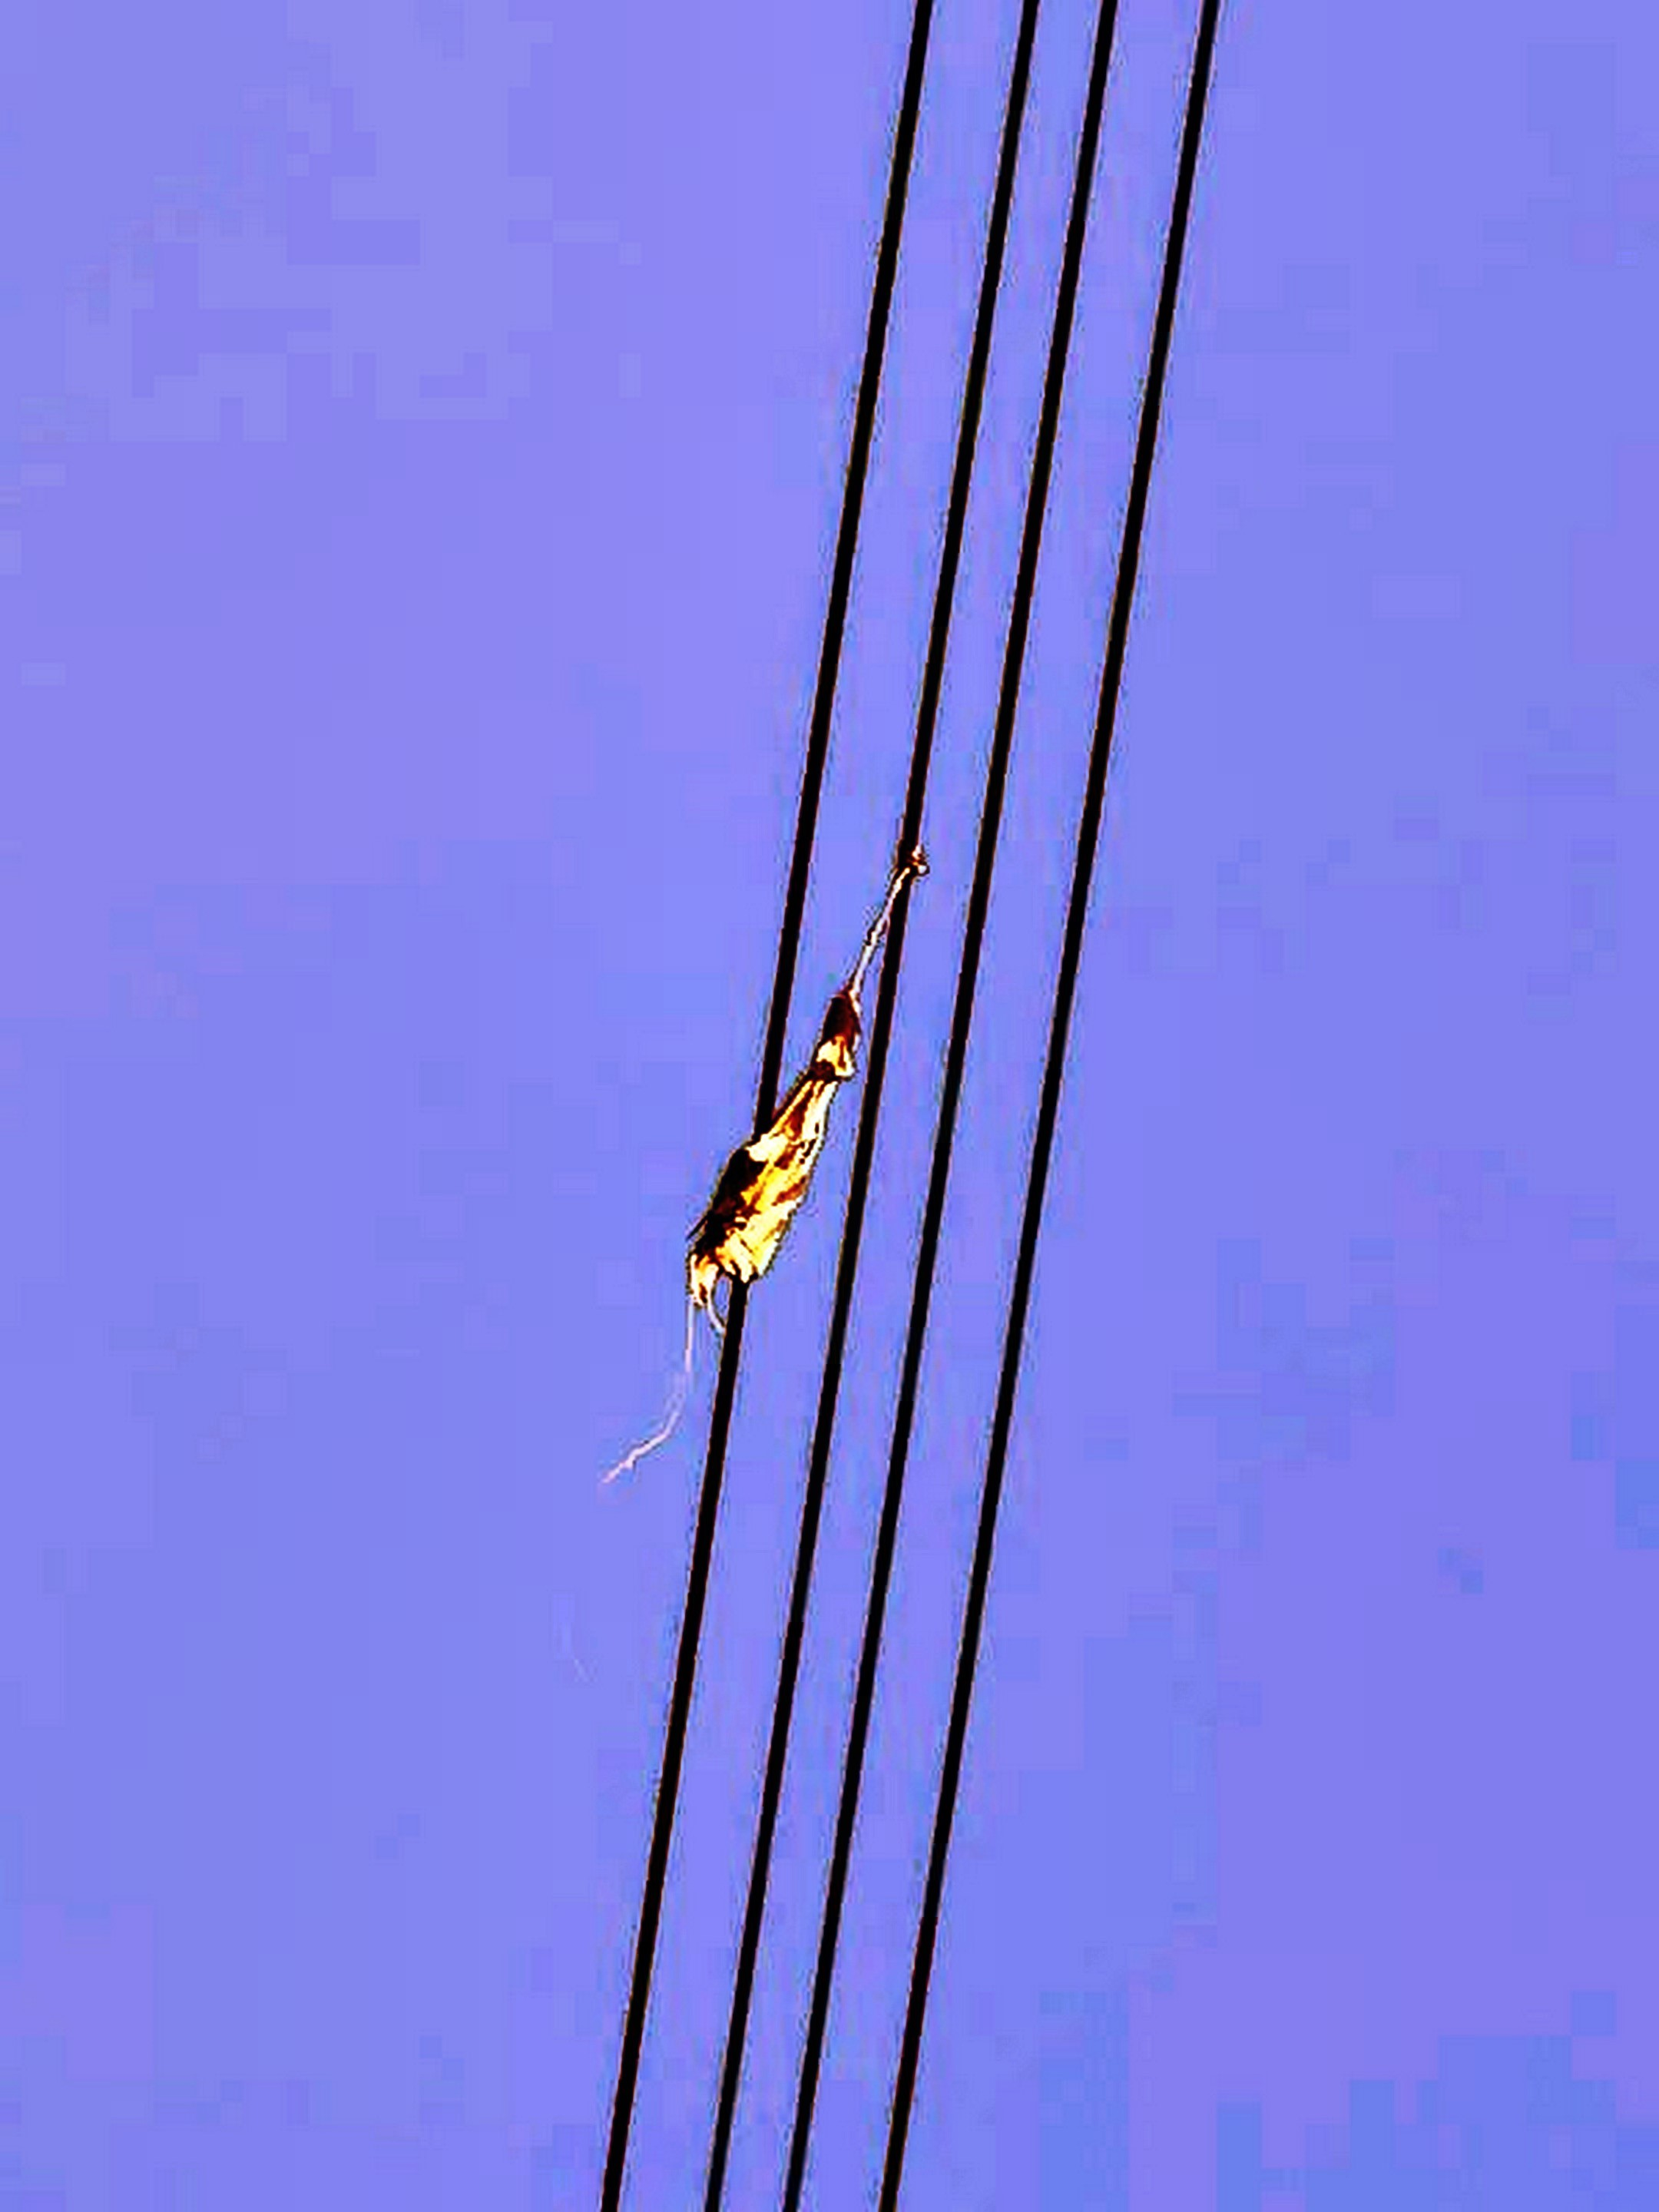wire foreign body: (650, 834, 981, 1353)
